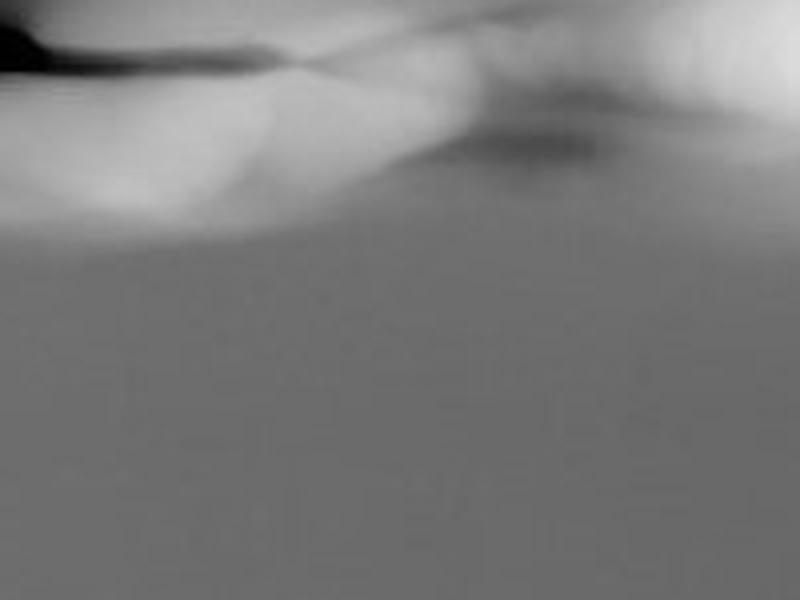defect: (1, 15, 144, 76)
